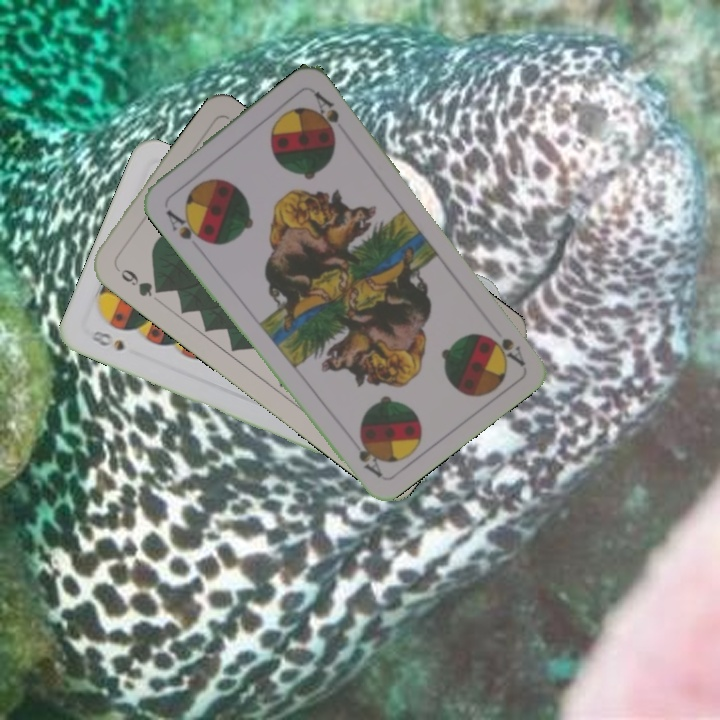G9: (111, 261, 166, 300)
S8: (87, 325, 128, 354)
SA: (162, 205, 209, 245), (482, 330, 528, 369)
